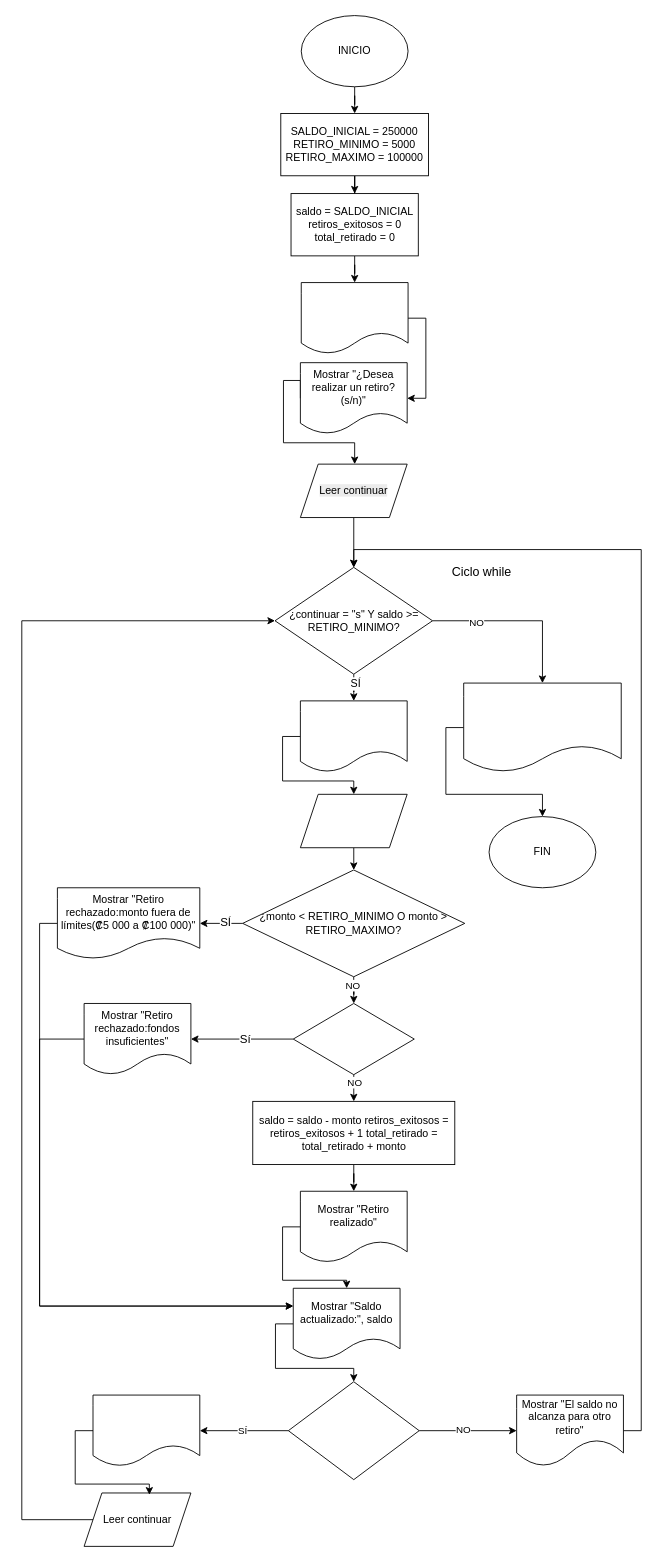
Some shapes in this 664 by 1562 pixel diagram are drawn without their labels. The centre of each missing label's shape, as x and y in pixels:
Leer monto: point 353,820
Mostrar "Bienvenido al cajero automático" Mostrar saldo: point 354,318
Mostrar "Ingrese el monto a retirar": point 353,736
Mostrar "Saldo restante:", saldo Mostrar retiros_exitosos Mostrar total_retirado: point 542,727
Mostrar "¿Desea continuar retirando? (s/n)": point 146,1430
¿monto > saldo?: point 353,1039
¿saldo >=RETIRO_MINIMO?: point 353,1430
